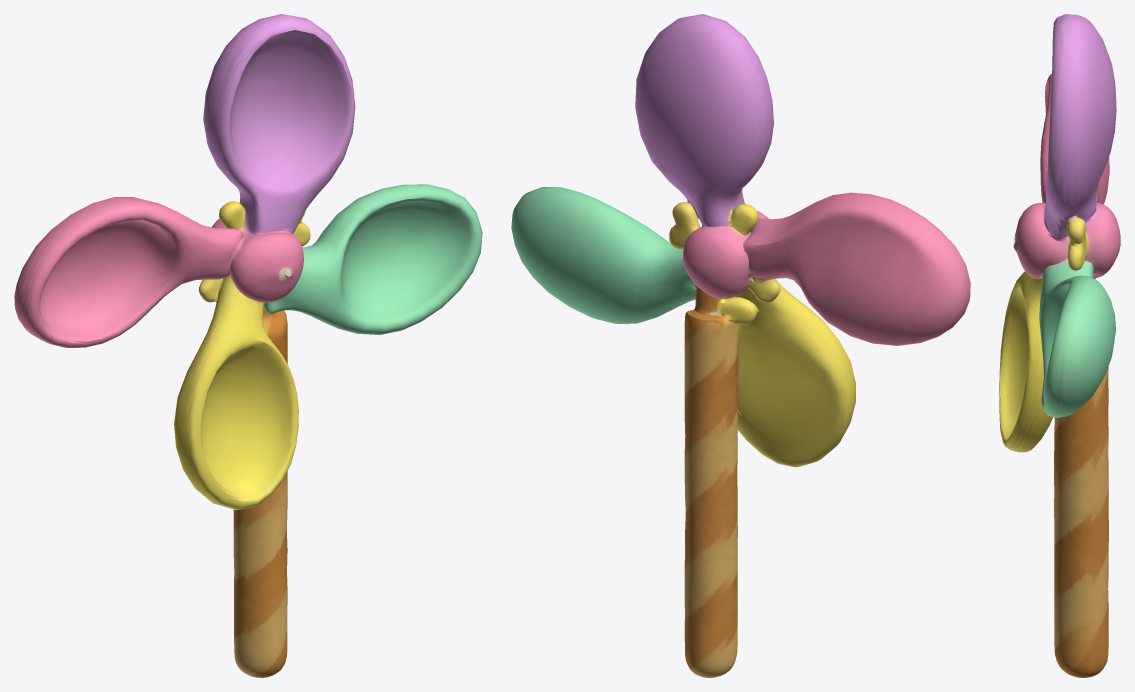
The model's file is spoon-pinwheel.glb.
3 renders of one model, left to right at view 1: azimuth 30°, elevation 25°; view 2: azimuth 150°, elevation 25°; view 3: azimuth 270°, elevation 25°, orthographic.
Visible parts, largest first — view 1: Mesh_0; view 2: Mesh_0; view 3: Mesh_0.
Boxes of the visible parts, box(x1,y1,x2,y2) form: Mesh_0: box(14, 14, 482, 677); Mesh_0: box(511, 14, 970, 677); Mesh_0: box(999, 14, 1120, 677).
Bounding box in the file's own units: 0.7287 × 1 × 0.1668.
Materials: 1 (1 with a texture image).
